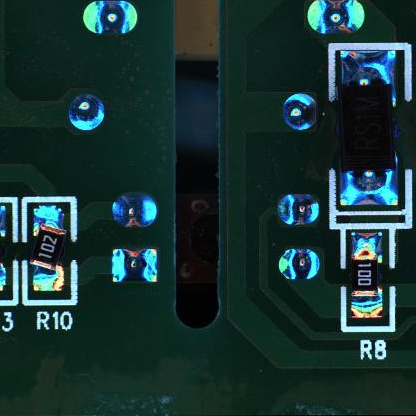spot: (307, 1, 367, 33), (82, 3, 140, 36), (110, 246, 159, 284), (111, 195, 160, 228), (277, 246, 321, 282), (276, 194, 319, 230), (69, 95, 105, 132), (282, 93, 317, 131)
